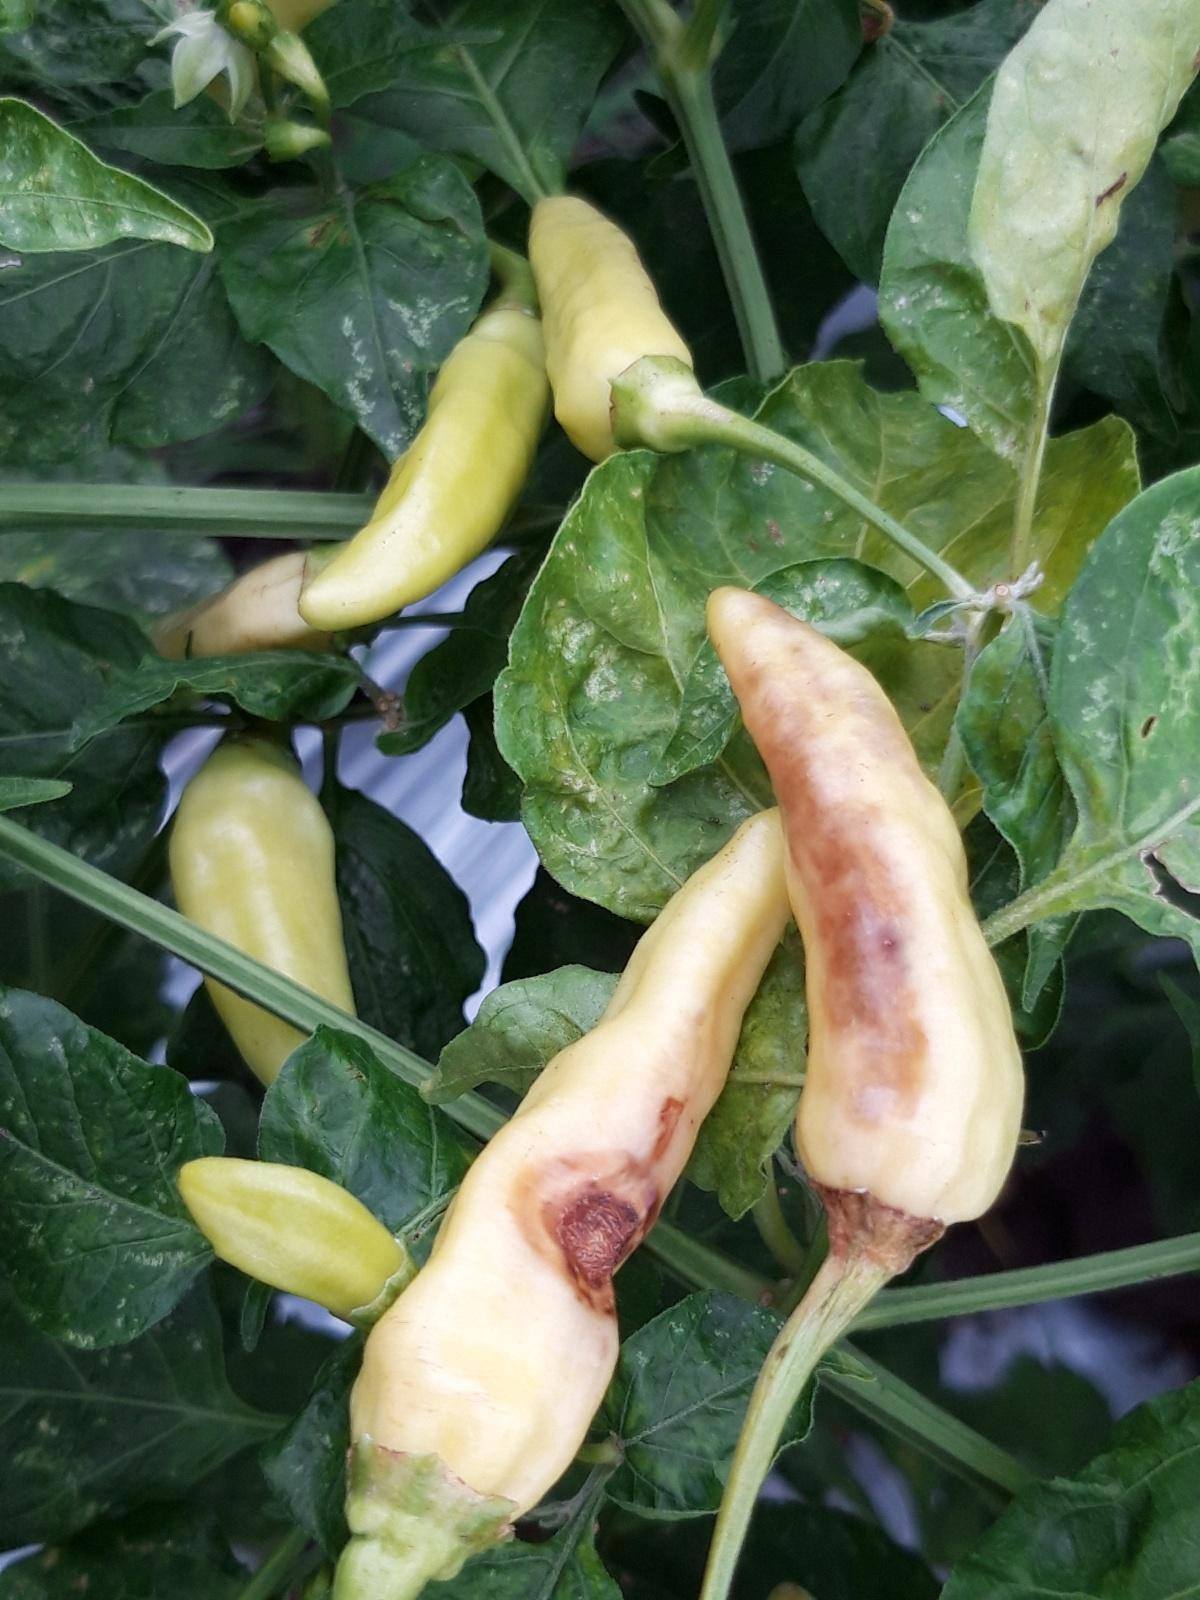cabai_normal: (299, 290, 550, 635), (160, 731, 363, 1094), (528, 193, 697, 459), (175, 1155, 400, 1328)
lalat_buah: (343, 805, 790, 1556), (707, 586, 1030, 1270)
